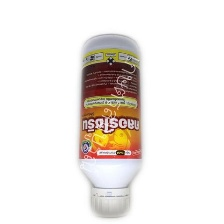insecticide: (75, 29, 149, 222)
